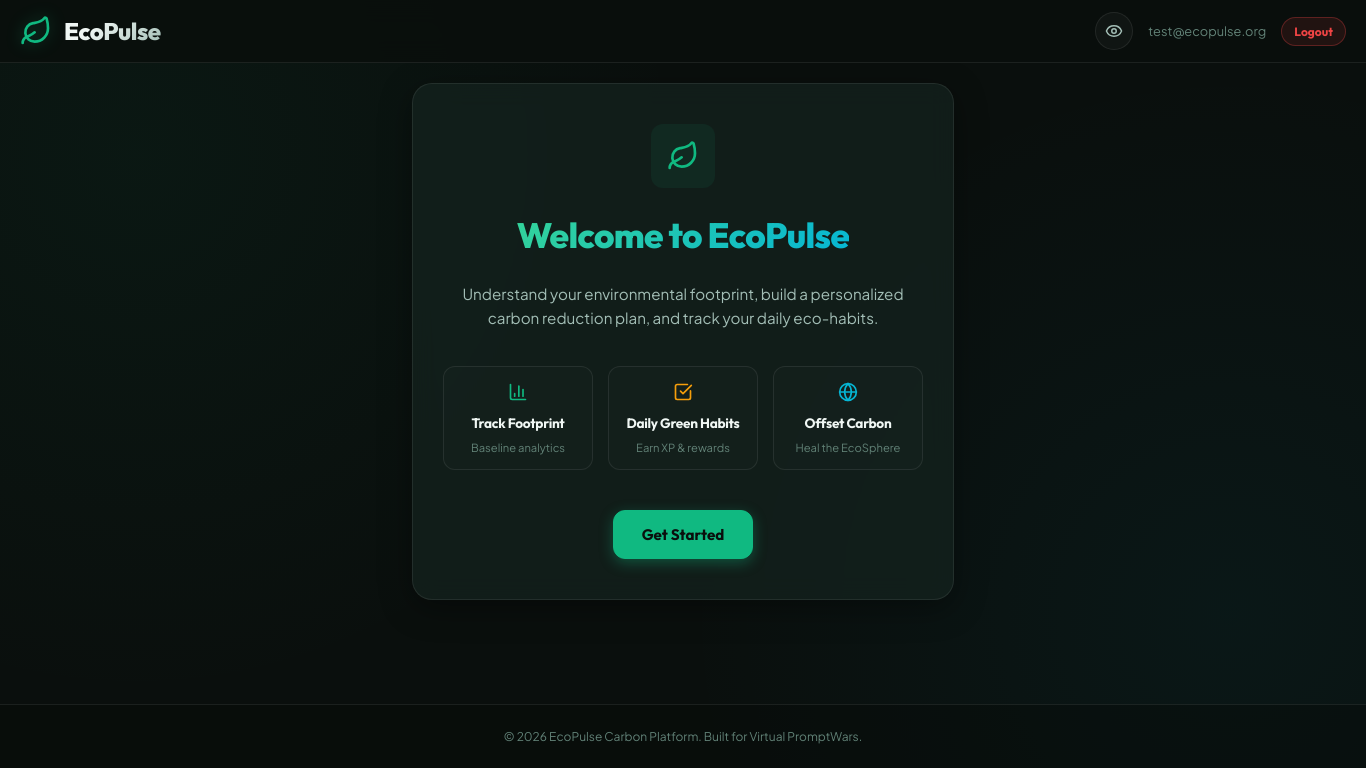
Test case: App — Welcome State › opens onboarding wizard when "Get Started" is clicked
Click the button "Get Started": {"x": 683, "y": 534} [613,510,753,559]
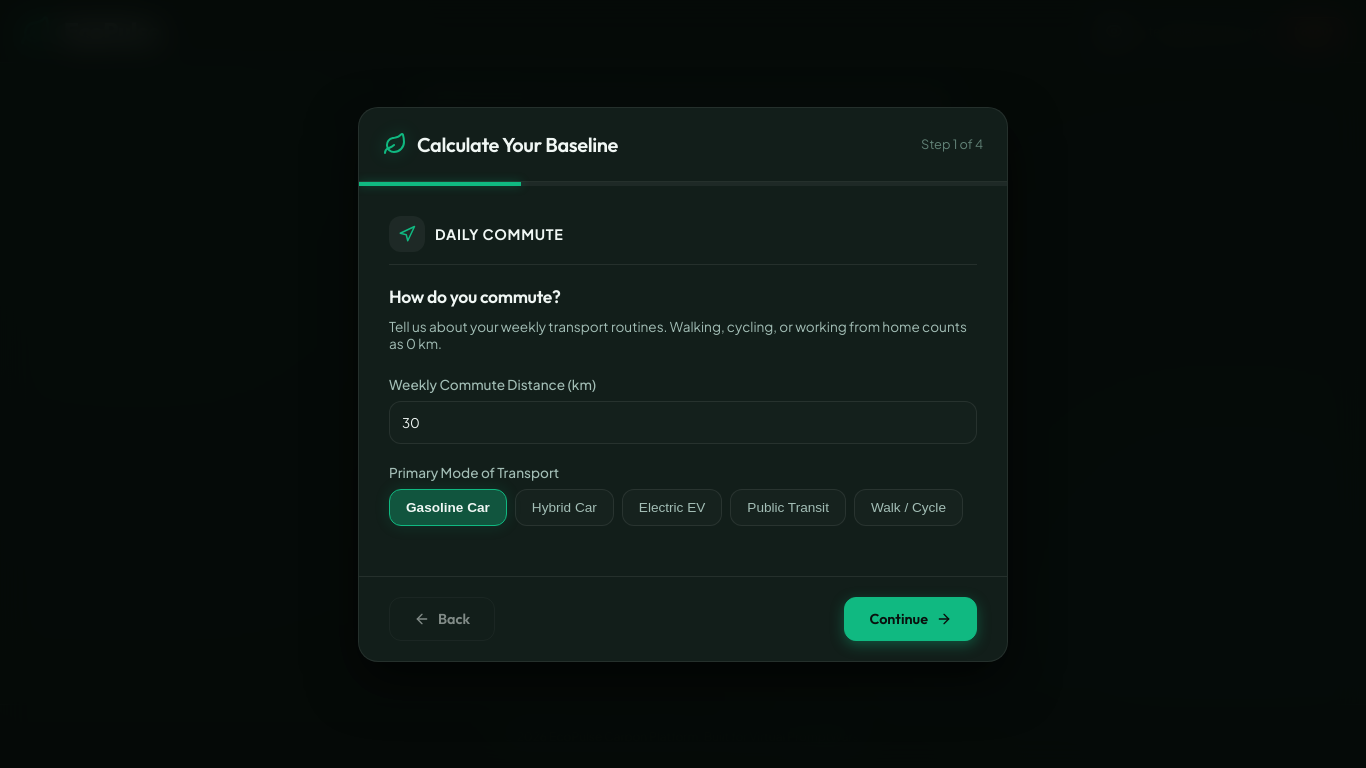
expect the dialog is shown: met
expect the heading "Calculate Your Baseline" is shown: met, box [417,132,618,156]
